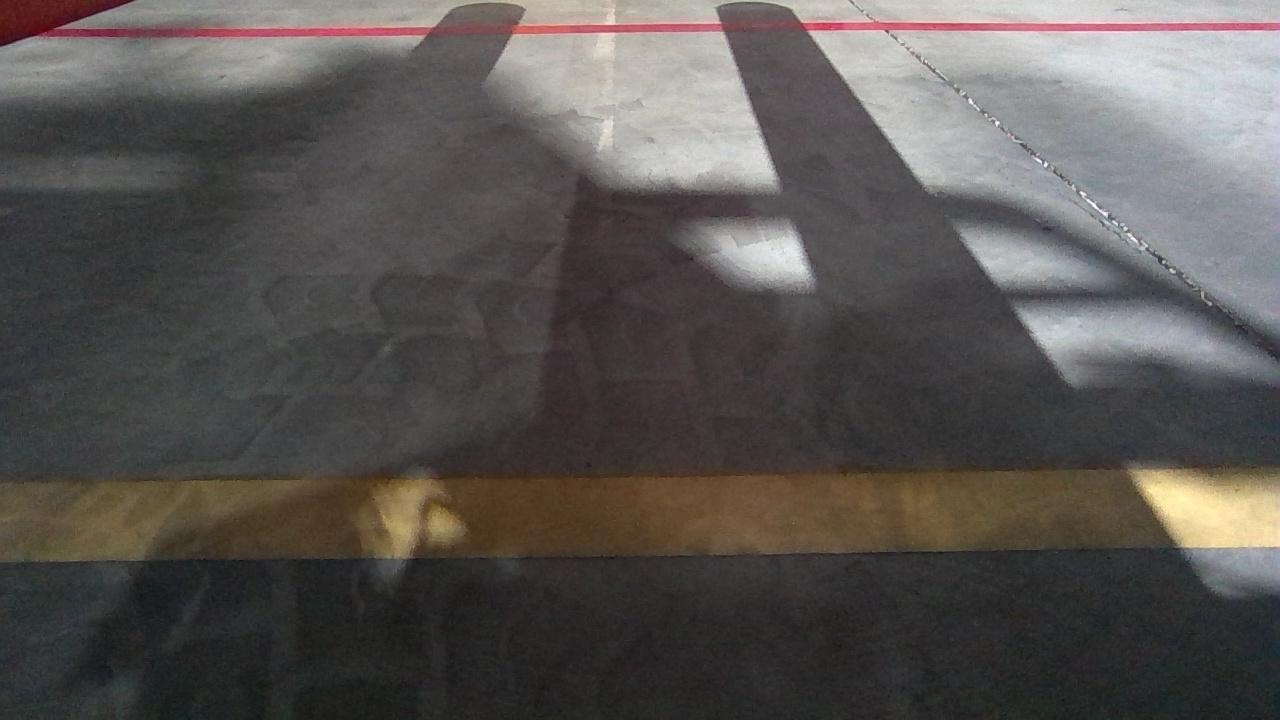red_line: (35, 22, 1278, 39)
yellow_line: (2, 464, 1280, 560)
